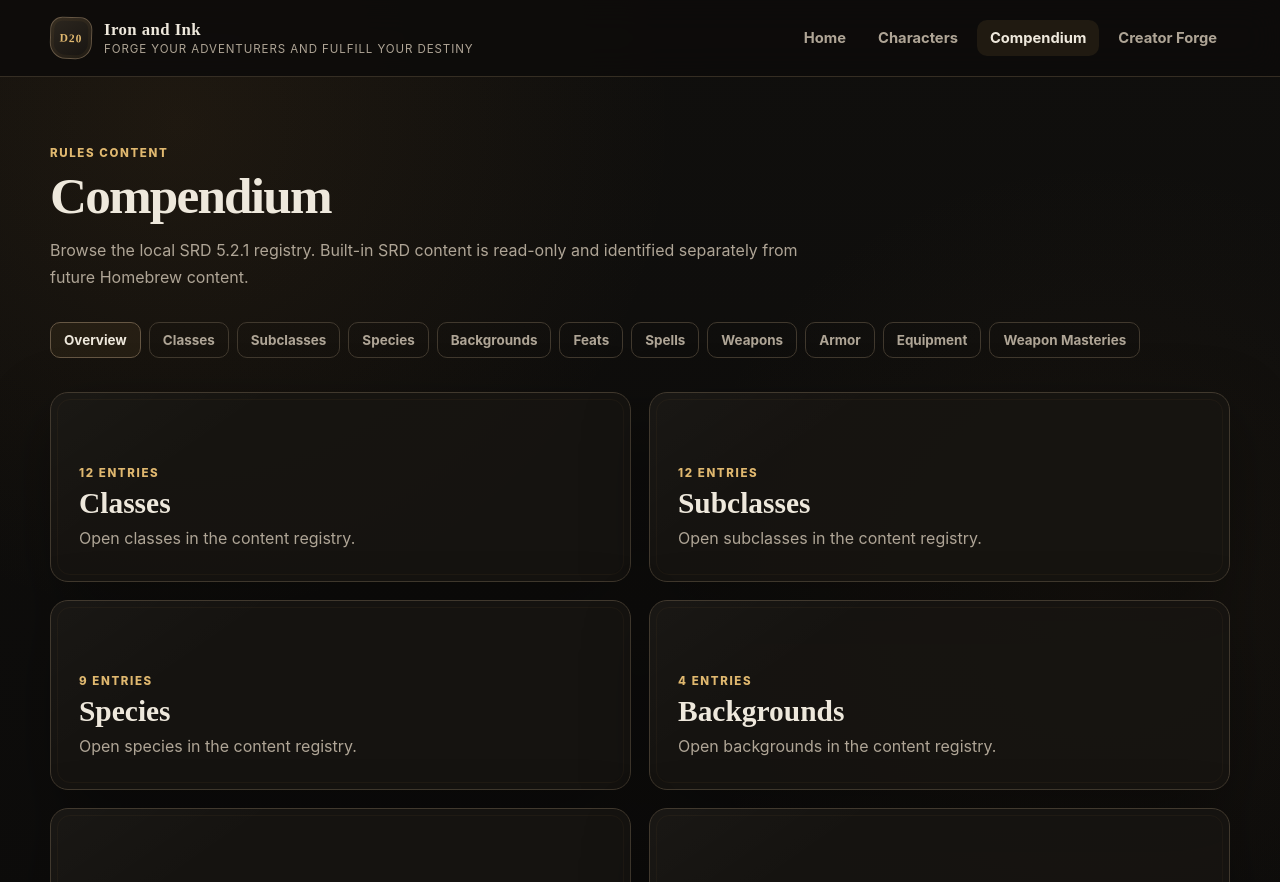
Test case: Milestone 9 Subclass Compendium integration › browses Champion through the expanded bundled Subclass overview, list, and detail routes
What coordinates should you click on to do the following:
click the link "12 entries Subclasses"
I would click on:
 (726, 473)
Its box is [649,392,1230,582].
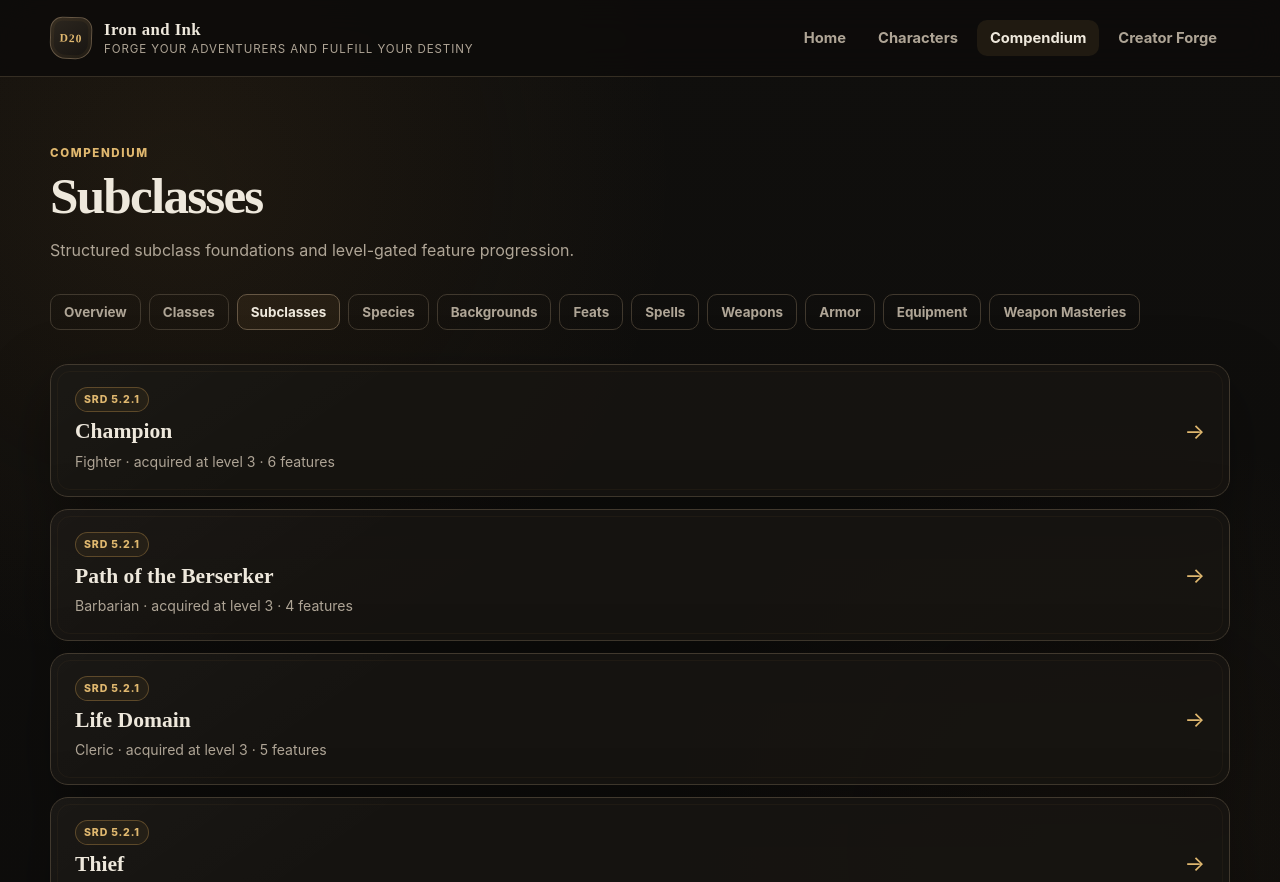
Now the heading "Subclasses" is shown, box [50,167,262,224]
What coordinates should you click on to do the following:
click the link "Champion"
I would click on:
 (640, 431)
Its box is [50,364,1230,497].
(page scrolled)
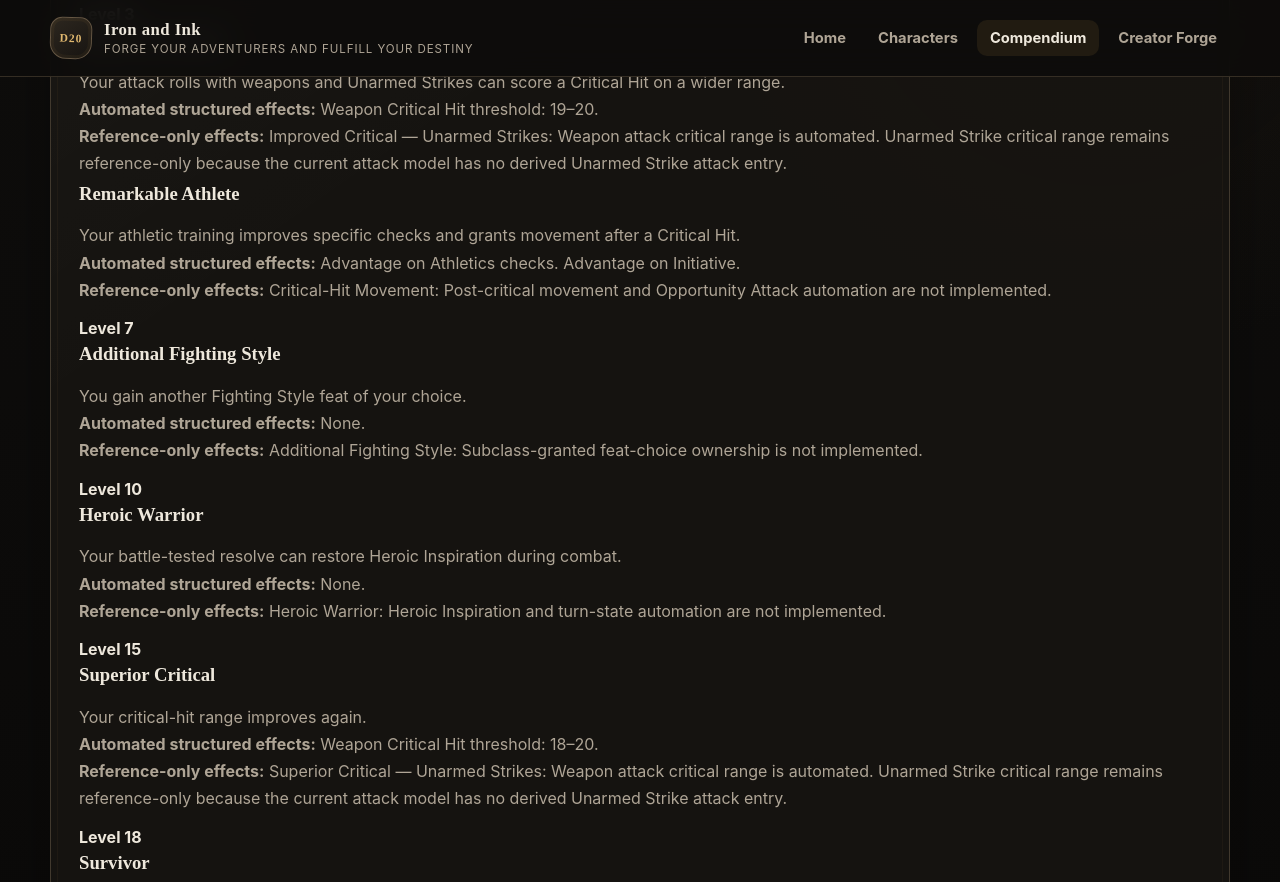
Now the heading "Remarkable Athlete" is shown, box [79,182,240,204]
Now the heading "Additional Fighting Style" is shown, box [79,343,281,364]
Now the heading "Heroic Warrior" is shown, box [79,504,204,524]
